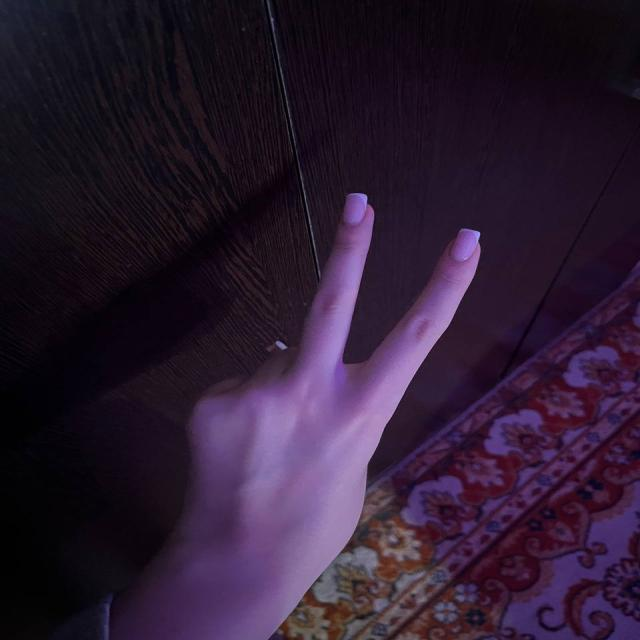l: (207, 194, 473, 478)
